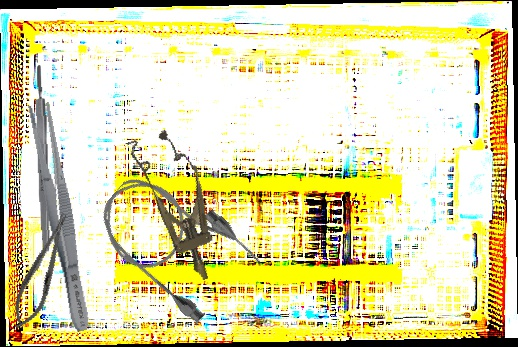Cannula: (83, 154, 268, 331)
Dressing Forceps: (24, 101, 97, 334)
Needle Holder: (5, 208, 79, 335)
Scalpel Handle: (33, 64, 52, 253)
Speculum: (124, 123, 234, 290)
